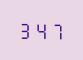four: (34, 19, 48, 40)
seven: (49, 20, 63, 40)
three: (18, 19, 32, 39)
